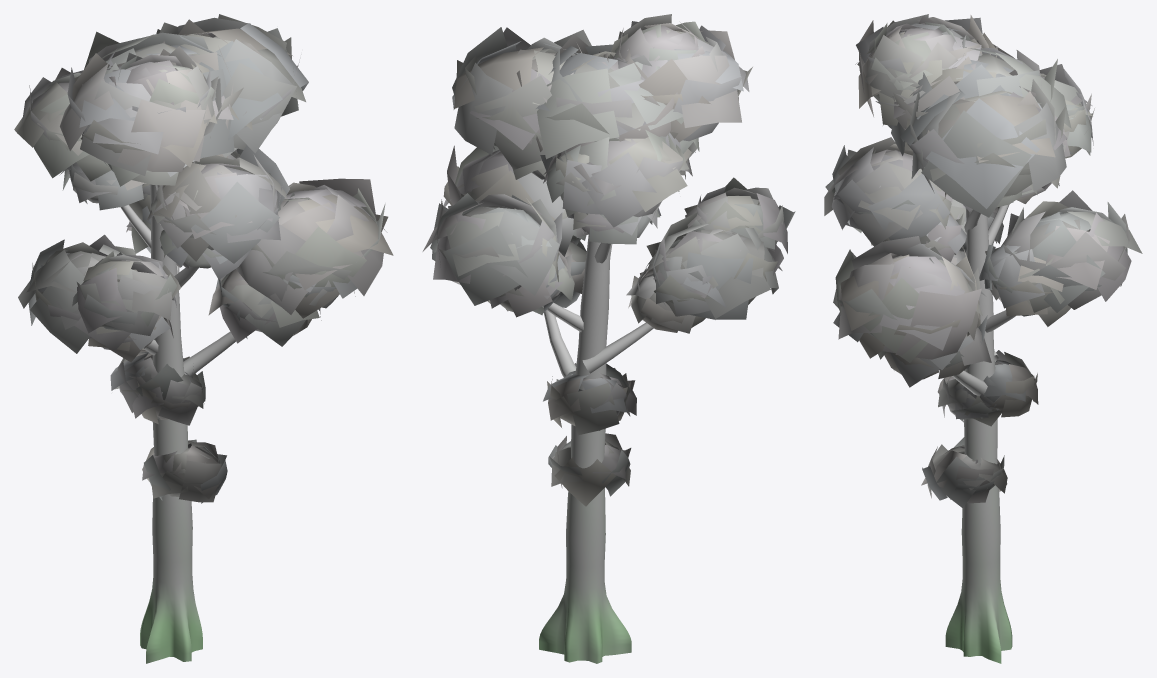
Rendered from jungleB_lod0.glb.
3 renders of one model, left to right at view 1: azimuth 30°, elevation 25°; view 2: azimuth 150°, elevation 25°; view 3: azimuth 270°, elevation 25°, orthographic. The views are drawn at different scales.
Parts seen in each view (by area): view 1: jungleB_lod0; view 2: jungleB_lod0; view 3: jungleB_lod0.
Part boxes in pixels (x1,y1,x2,y2): jungleB_lod0: (14, 14, 393, 663); jungleB_lod0: (422, 14, 795, 663); jungleB_lod0: (824, 14, 1142, 663).
Bounding box in the file's own units: 21.87 × 38.05 × 18.4.
